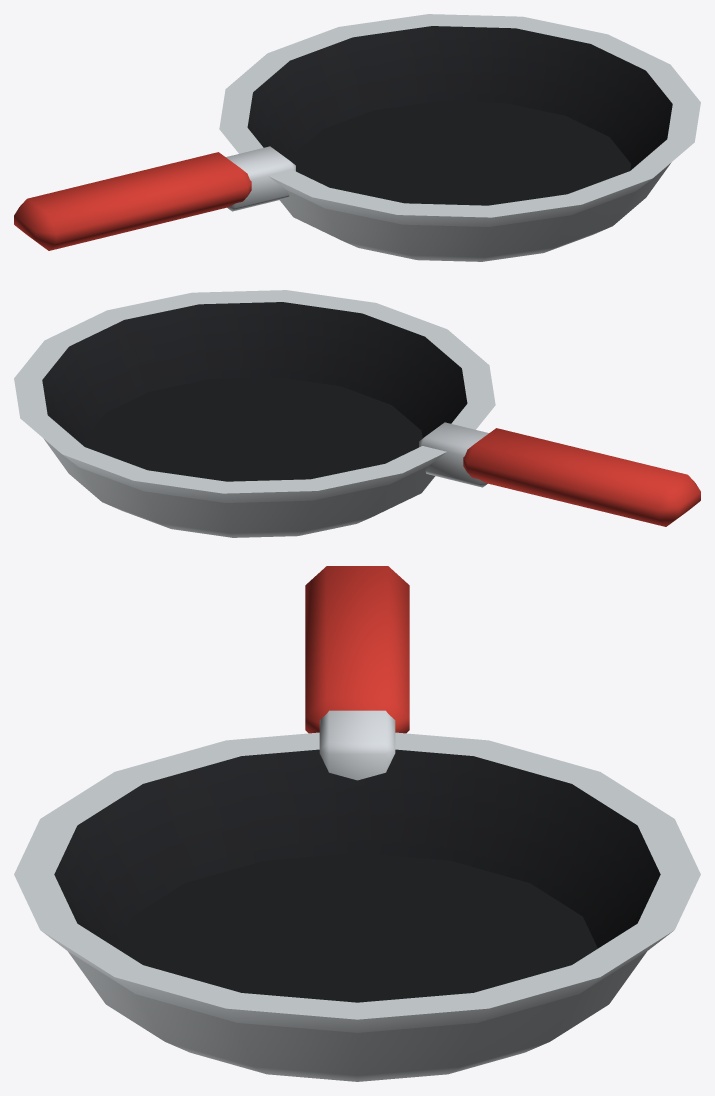
The model's file is Pan_Frying_01.glb.
The picture shows the model from 3 angles, top to bottom: view 1: azimuth 30°, elevation 25°; view 2: azimuth 150°, elevation 25°; view 3: azimuth 270°, elevation 25°; orthographic projection. The views are drawn at different scales.
Parts seen in each view (by area): view 1: SM_Pan_Frying_01; view 2: SM_Pan_Frying_01; view 3: SM_Pan_Frying_01.
Boxes of the visible parts, <box> form: SM_Pan_Frying_01: <box>14,14,700,261</box>; SM_Pan_Frying_01: <box>14,290,700,537</box>; SM_Pan_Frying_01: <box>14,566,700,1081</box>.
Bounding box in the file's own units: 0.445 × 0.058 × 0.29.
Materials: 1 (1 with a texture image).
